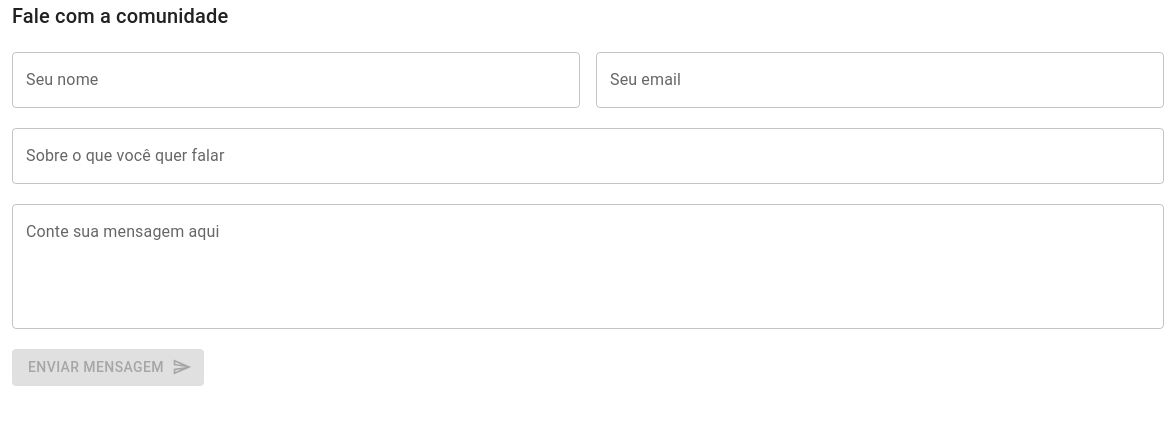
ContactForm › exibe erros de validação ao enviar campos preenchidos inválidos
This screenshot has width=1176, height=448.
Type "M" into the field labelled "Seu nome" at (296, 80), box left=12, top=52, right=580, bottom=108
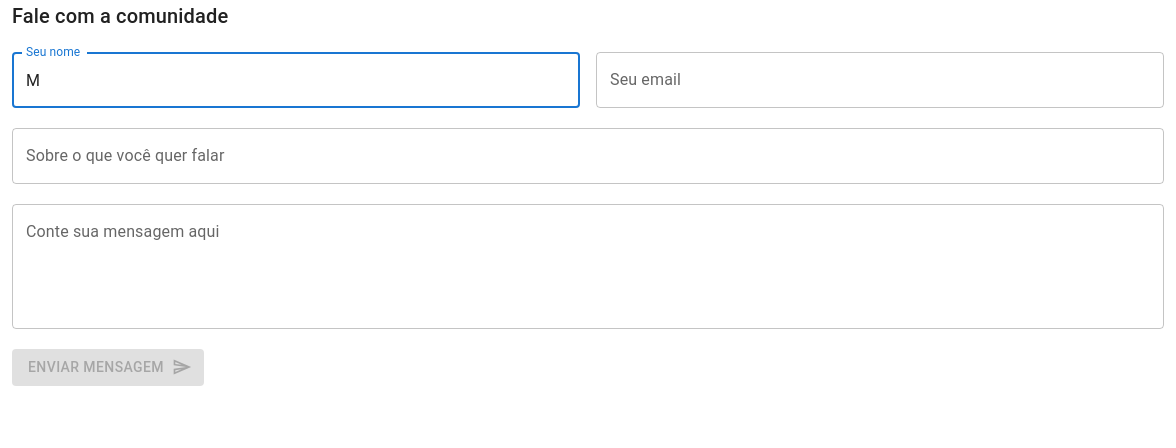
Type "nao-e-email" into the field labelled "Seu email" at (880, 80), box left=596, top=52, right=1164, bottom=108
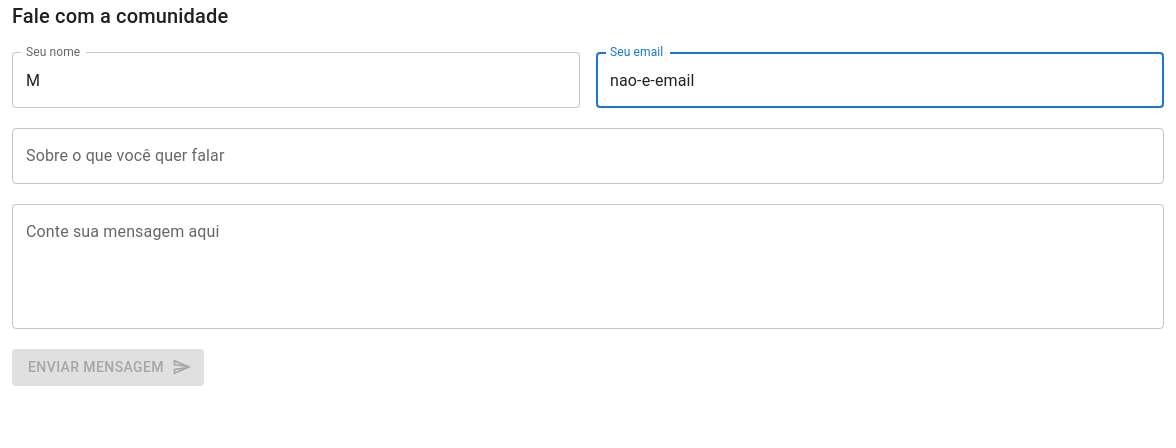
Type "Parceria" into the field labelled "Sobre o que você quer falar" at (588, 156), box left=12, top=128, right=1164, bottom=184
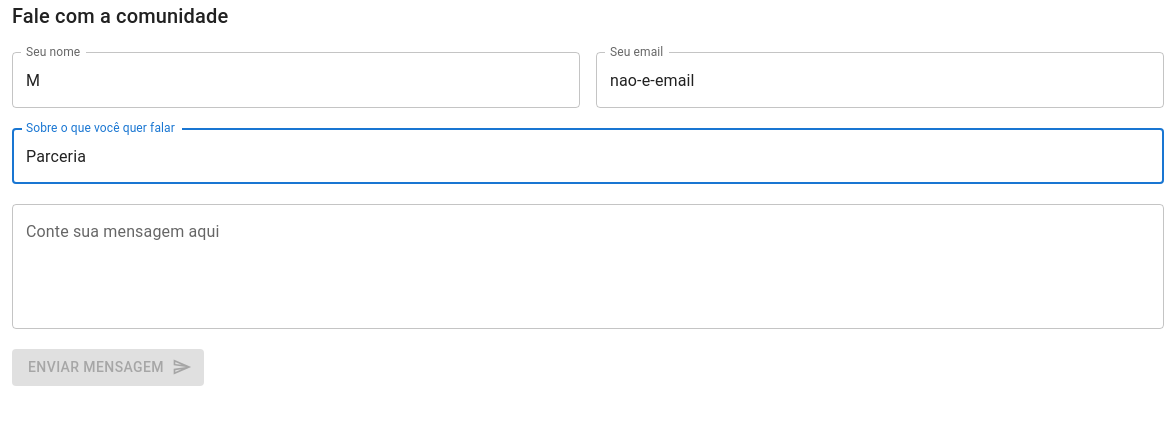
Type "Curta" into the text box labelled "Conte sua mensagem aqui" at (588, 266), box left=26, top=220, right=1150, bottom=312
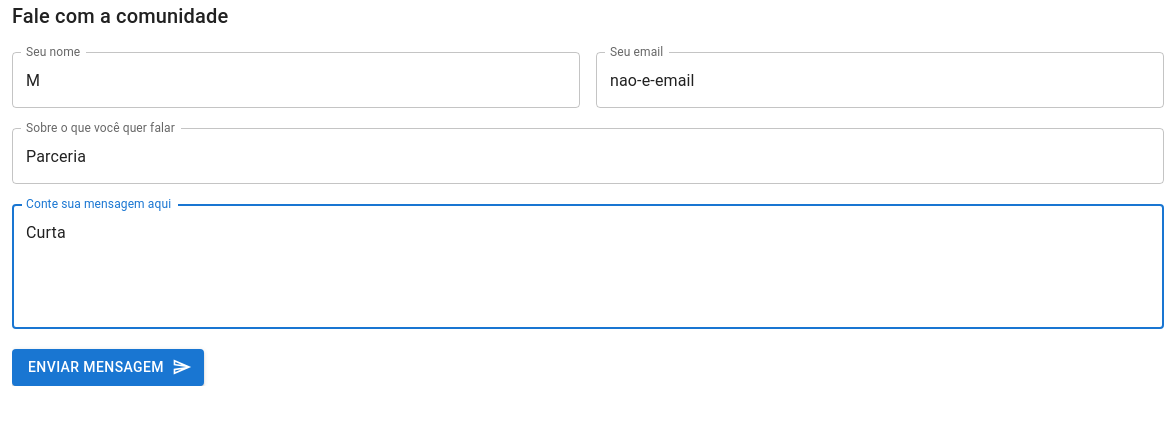
Click the button "Enviar mensagem" at (108, 367), box left=12, top=349, right=204, bottom=386
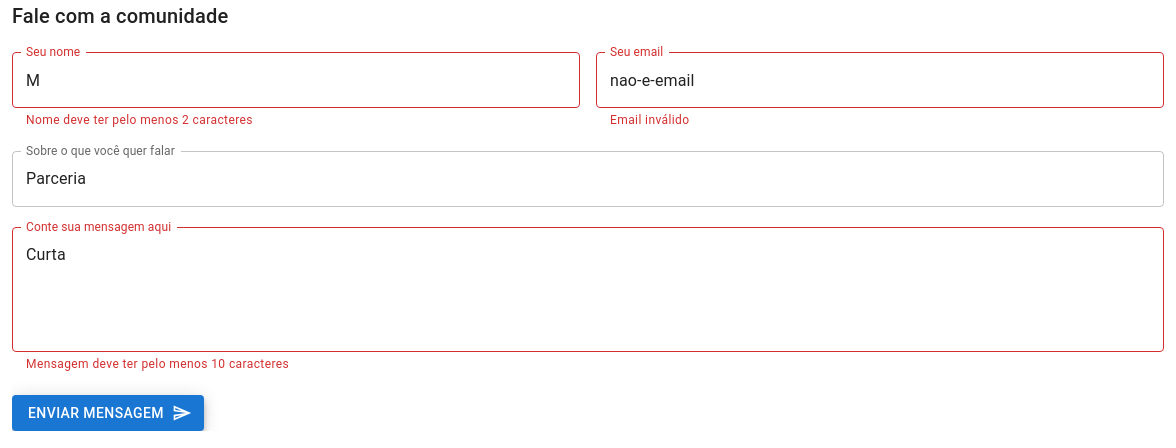
Expected: the text "Nome deve ter pelo menos 2 caracteres" is shown, left=26, top=113, right=253, bottom=127
Expected: the text "Email inválido" is shown, left=610, top=113, right=690, bottom=127
Expected: the text "Mensagem deve ter pelo menos 10 caracteres" is shown, left=26, top=357, right=289, bottom=371
